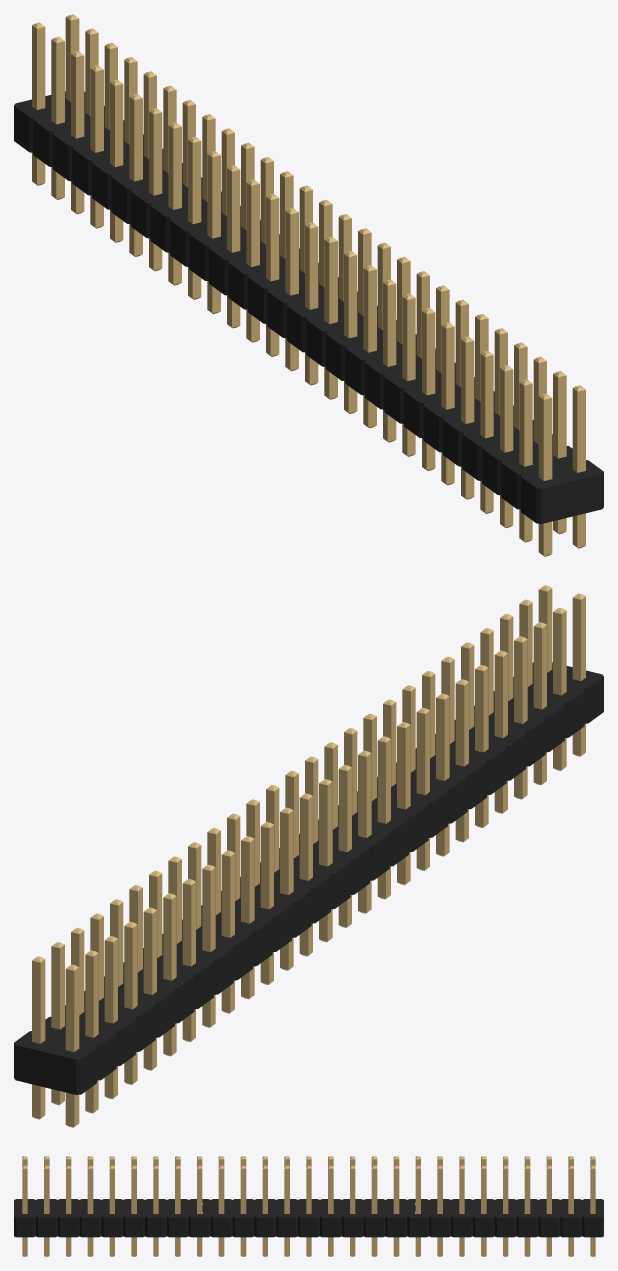
Rendered from kc-pinheader_2x27_p2.54mm_vertical.glb.
3 renders of one model, top to bottom at view 1: azimuth 30°, elevation 25°; view 2: azimuth 150°, elevation 25°; view 3: azimuth 270°, elevation 25°, orthographic. The views are drawn at different scales.
Parts seen in each view (by area): view 1: 0.75_0.5_0.25_0.9, 0_0_0_0; view 2: 0.75_0.5_0.25_0.9, 0_0_0_0; view 3: 0_0_0_0, 0.75_0.5_0.25_0.9.
Boxes of the visible parts, x1,y1,x2,y2 form: 0.75_0.5_0.25_0.9: (32, 14, 585, 556); 0_0_0_0: (14, 91, 603, 523); 0.75_0.5_0.25_0.9: (32, 585, 585, 1127); 0_0_0_0: (14, 662, 603, 1094); 0_0_0_0: (14, 1199, 603, 1237); 0.75_0.5_0.25_0.9: (22, 1156, 595, 1256).
Bounding box in the file's own units: 0.5082 × 1.15 × 6.86.
